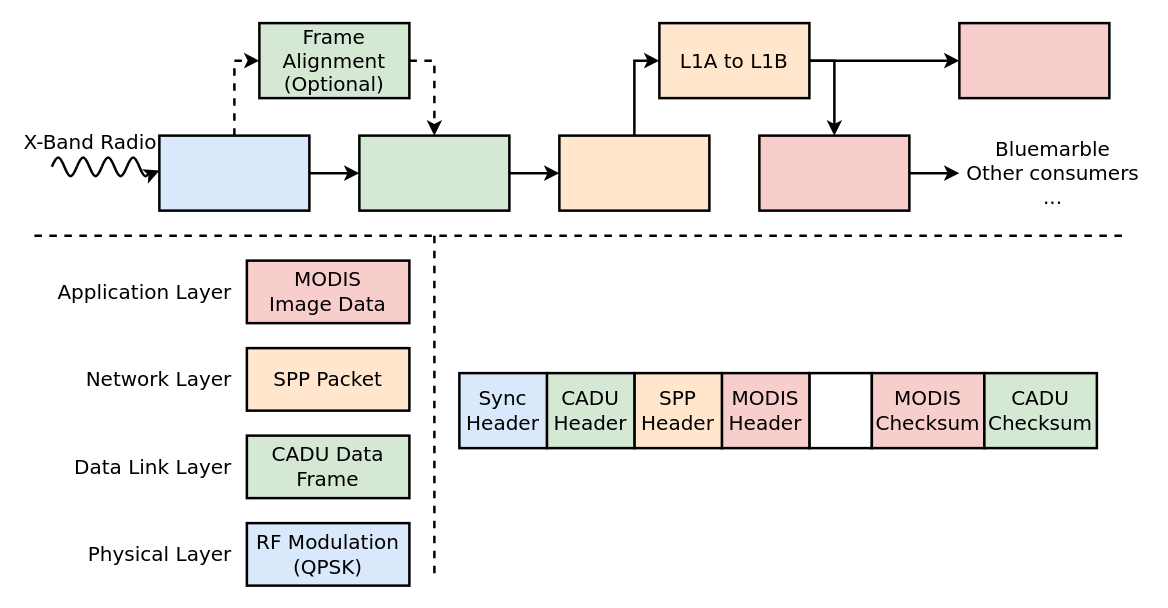
The diagram is 1168 pixels wide and 608 high, and some of its shapes have lost their labels. Here are the shapes that lost their labels. From the top down, the centre of each, then its label:
(x=1034, y=60): Other derived datasets
(x=234, y=172): QPSK Demodulation
(x=434, y=172): RT-STPS
(x=634, y=172): L0 to L1
(x=834, y=172): MOD14_SPA
(x=840, y=410): Data
